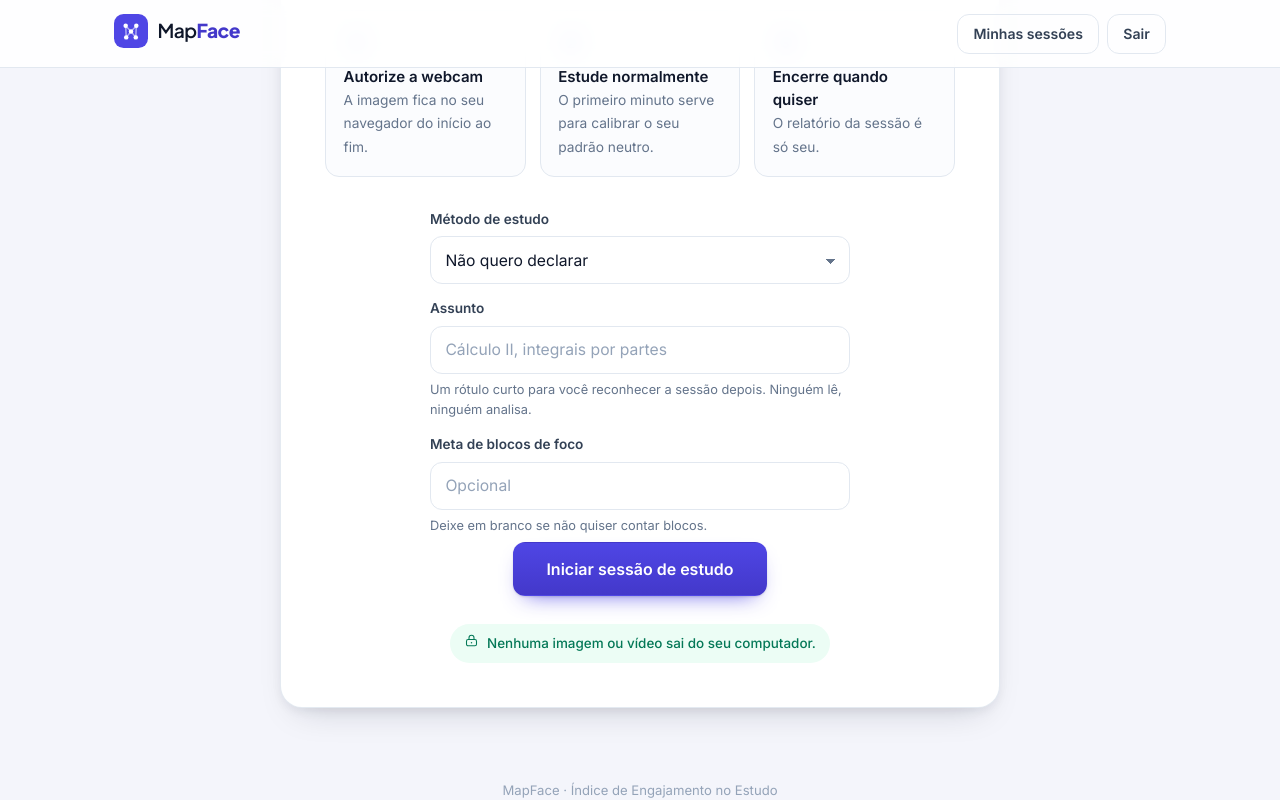
Test: HomeComponent › webcam › dá uma mensagem de hardware quando não há webcam no computador
The width and height of the screenshot is (1280, 800).
(page scrolled)
Click the button "Iniciar sessão de estudo" at [640, 569], box [513, 542, 767, 596]
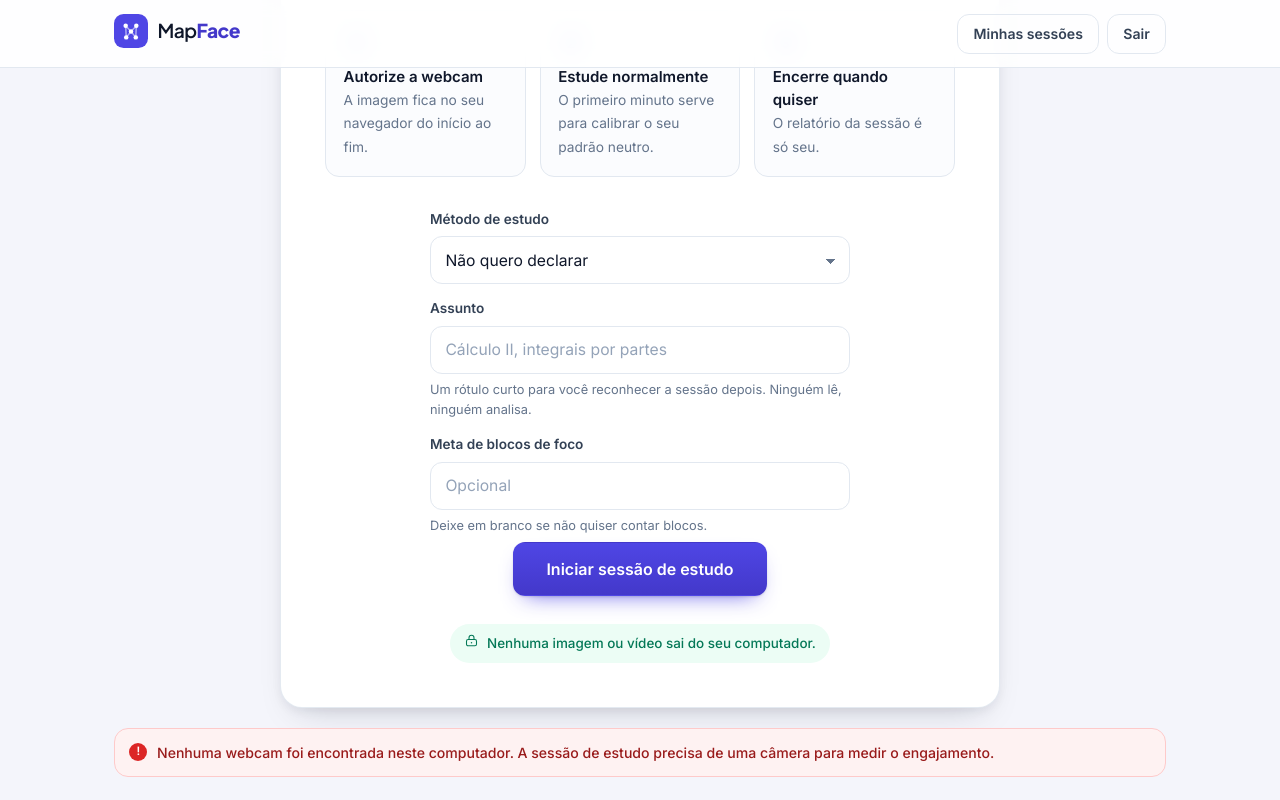
Expected: the text "Nenhuma webcam foi encontrada" is shown, [157, 744, 994, 761]
